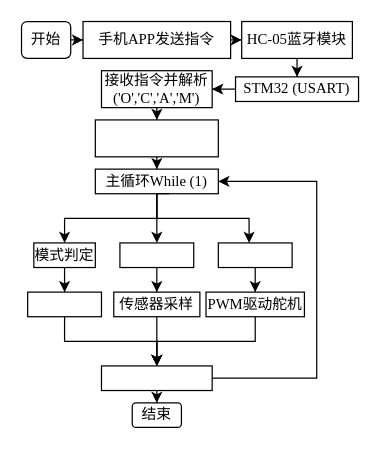
Some shapes in this 380 by 449 pixel diagram are drawn without their labels. Each missing label, with the centre of its shape:
OLED 状态刷新: (x=156, y=378)
动作执行: (x=254, y=255)
更新系统状态(自动/手动): (x=156, y=138)
状态监控: (x=156, y=255)
自动/手动: (x=63, y=304)
